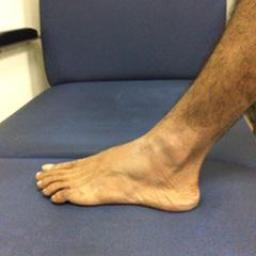Lateral View -Left Foot-: (30, 99, 224, 218)
